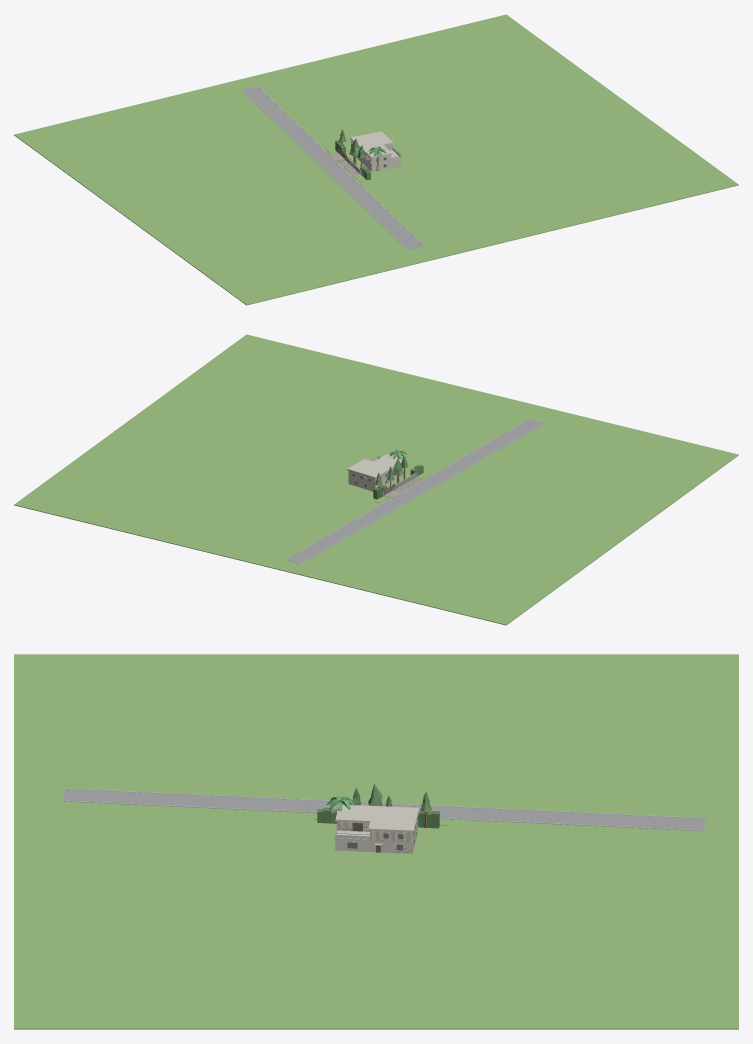
The model's file is world_test.glb.
3 views of the same model, one above another, from view 1: azimuth 30°, elevation 25°; view 2: azimuth 150°, elevation 25°; view 3: azimuth 270°, elevation 25° (orthographic). The views are drawn at different scales.
Size of the model in its own units: 220 by 11.8 by 180.
